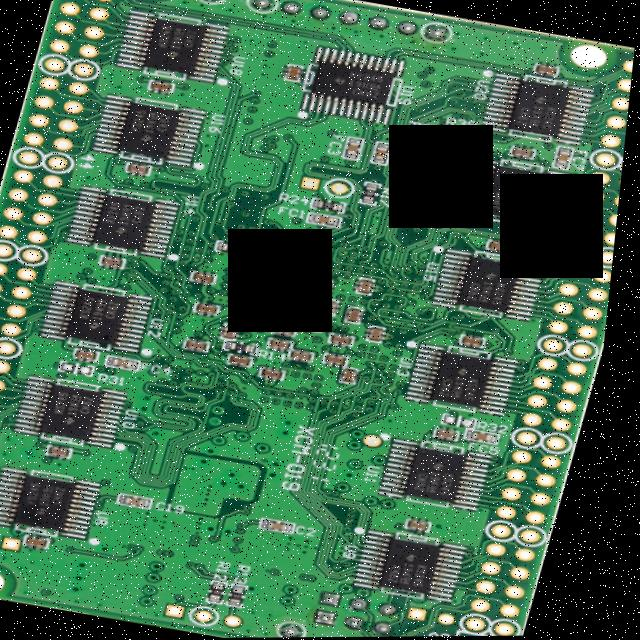-component text- -KS245 19K04 CK6Z-: (156, 20, 205, 56), (132, 104, 181, 140), (108, 196, 157, 232), (469, 274, 520, 308), (444, 370, 495, 404), (82, 292, 131, 327), (34, 478, 83, 513), (514, 99, 565, 132), (345, 67, 393, 102), (60, 386, 108, 421), (493, 183, 543, 216), (422, 466, 472, 499), (398, 557, 448, 590)
-test point- TP1: (370, 430, 399, 449)
-test point- unknown: (287, 616, 328, 638), (191, 0, 233, 7)
2611: (286, 420, 332, 495)
2666: (316, 436, 358, 487)
2750: (78, 150, 104, 169)
2762: (439, 629, 472, 637), (0, 546, 10, 568)
2944: (164, 497, 200, 517)
2955: (305, 523, 338, 538)
3369: (277, 203, 317, 219)
3380: (388, 143, 415, 168)
3388: (325, 129, 351, 157)
3399: (144, 358, 186, 379)
3404: (473, 438, 513, 456)
3405: (403, 117, 428, 143)
3406: (572, 147, 592, 171)
3789: (223, 556, 250, 581)
3800: (244, 561, 267, 585)
3811: (264, 347, 300, 362)
3822: (252, 243, 289, 262)
3921: (274, 190, 318, 207)
3993: (102, 370, 139, 386)
3997: (480, 417, 523, 435)
4038: (444, 113, 484, 132)
4047: (438, 150, 472, 165)
4342: (130, 406, 152, 435)
4343: (371, 457, 400, 485)
4344: (152, 314, 177, 341)
4345: (404, 353, 422, 376)
4346: (185, 192, 211, 217)
4347: (423, 258, 447, 283)
4348: (205, 108, 235, 138)
4349: (448, 168, 474, 193)
4350: (229, 49, 254, 77)
4351: (399, 81, 424, 110)
4353: (474, 75, 495, 102)
4371: (99, 508, 124, 528)
4372: (349, 539, 374, 563)
4468: (125, 159, 160, 178), (149, 75, 179, 95), (194, 269, 227, 286), (77, 345, 108, 363), (56, 443, 87, 460), (274, 282, 305, 299), (284, 299, 314, 316), (335, 331, 364, 347), (314, 312, 336, 333), (235, 292, 256, 313), (345, 365, 368, 384), (537, 61, 566, 76), (491, 237, 520, 252), (105, 253, 132, 269), (257, 309, 284, 325), (298, 234, 319, 254), (294, 346, 322, 361), (443, 426, 470, 441), (320, 276, 341, 295), (283, 63, 305, 81), (233, 353, 261, 367), (267, 366, 295, 380), (280, 322, 306, 337), (362, 276, 383, 294), (331, 352, 358, 366), (417, 517, 444, 531), (192, 338, 217, 353), (34, 533, 60, 547), (275, 336, 301, 350), (374, 324, 394, 342), (467, 332, 492, 346), (228, 321, 246, 340), (514, 145, 540, 158), (202, 303, 226, 317), (329, 299, 348, 316), (240, 280, 265, 292), (240, 256, 257, 273), (353, 306, 370, 322)
capacitor C190: (127, 490, 164, 509)
capacitor C20: (269, 515, 310, 534)
capacitor FC10: (310, 211, 349, 228)
capacitor FC21: (374, 138, 397, 166)
capacitor FC30: (344, 134, 370, 160)
capacitor FC40: (113, 353, 149, 369)
capacitor FC6: (476, 428, 511, 444)
capacitor FC7: (421, 121, 447, 149)
capacitor FC8: (556, 145, 577, 167)
connector: (465, 54, 635, 637), (0, 0, 125, 583)
connector CN2: (0, 526, 40, 553)
connector CN3: (299, 168, 366, 201)
connector CN5: (171, 596, 264, 632)
connector CN6: (414, 602, 477, 628)
ic U10: (22, 375, 140, 448)
ic U11: (387, 437, 505, 514)
ic U12: (46, 277, 161, 355)
ic U13: (414, 344, 528, 414)
ic U14: (74, 182, 186, 255)
ic U15: (437, 246, 552, 320)
ic U16: (95, 92, 209, 163)
ic U17: (459, 156, 578, 231)
ic U18: (118, 10, 234, 81)
ic U19: (302, 45, 407, 121)
ic U20: (482, 73, 595, 144)
ic U8: (0, 465, 112, 539)
ic U9: (365, 528, 483, 603)
pads R31: (66, 357, 107, 377)
pads R32: (448, 410, 489, 431)
pads R39: (445, 125, 484, 141)
pads R40: (443, 139, 477, 154)
pins unknown: (239, 0, 464, 49), (318, 586, 420, 637)
resistor R120: (218, 580, 242, 605)
resistor R130: (236, 583, 261, 608)
resistor R140: (228, 339, 268, 352)
resistor R150: (220, 239, 258, 256)
resistor R170: (364, 180, 386, 204)
resistor R240: (315, 195, 351, 213)
